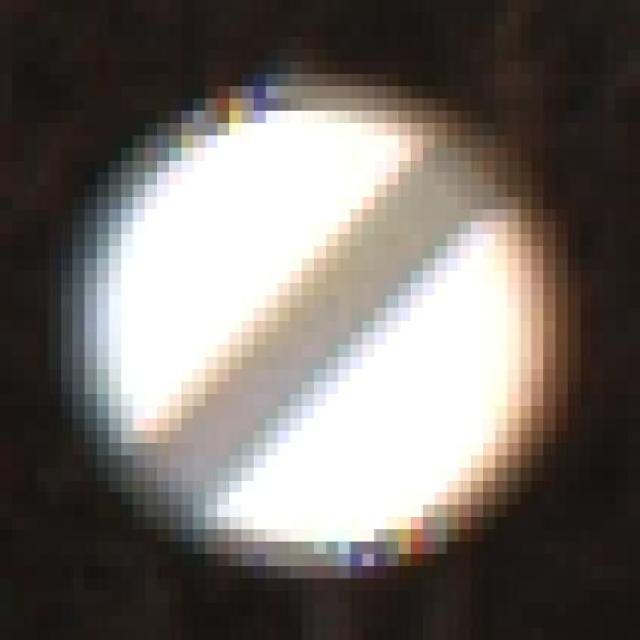End of all speed and passing limits: (60, 49, 592, 591)
